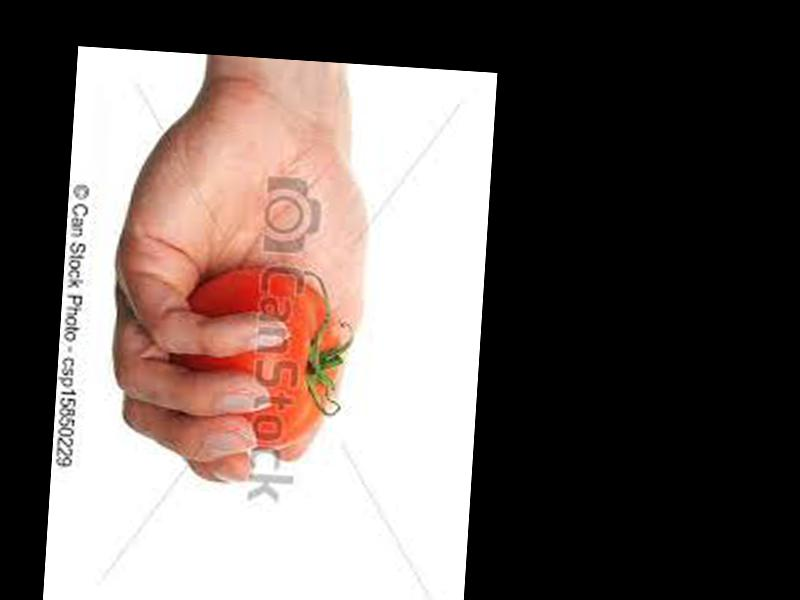Tomato: (170, 267, 343, 453)
